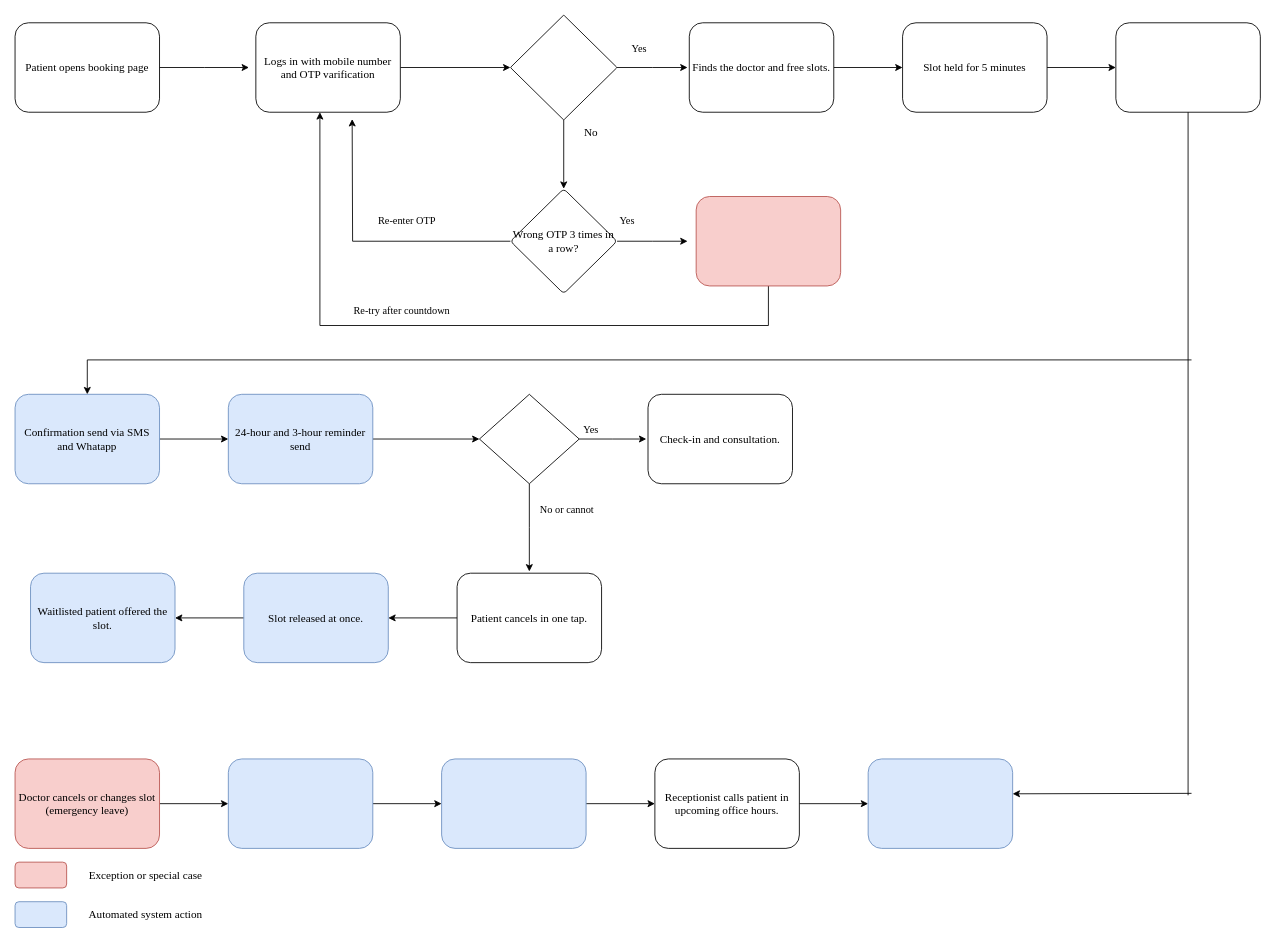
This 1275x943 diagram has some shape labels left out. Here are the shapes that lost their labels. From the top down, the centre of each, then its label:
At pixel 563 67: "OTP correct?".
At pixel 1187 67: "Confirms and gives consent.".
At pixel 768 241: "5 minute lockout countdown (configurable)".
At pixel 529 438: "Coming?".
At pixel 300 803: "Patient receives message when change is saved.".
At pixel 513 803: "Patient added to receptionist call-back list".
At pixel 940 803: "Next available slot booked.".
